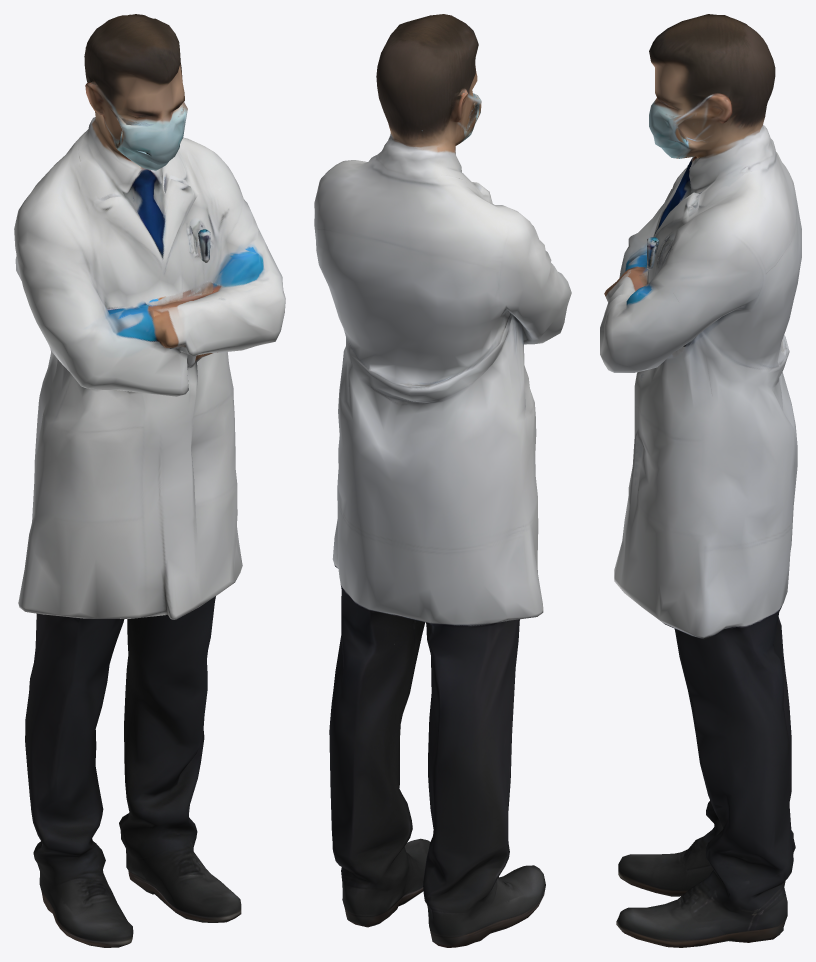
File: Meshy_AI_Doctor_in_a_Lab_Coat_0210210403_texture.fbx
3 renders of one model, left to right at view 1: azimuth 30°, elevation 25°; view 2: azimuth 150°, elevation 25°; view 3: azimuth 270°, elevation 25°, orthographic.
Visible parts, largest first — view 1: Mesh_0; view 2: Mesh_0; view 3: Mesh_0.
Boxes of the visible parts, x1,y1,x2,y2 form: Mesh_0: (14, 14, 285, 947); Mesh_0: (314, 14, 571, 947); Mesh_0: (600, 14, 801, 947).
Bounding box in the file's own units: 50.1 × 191 × 38.75.
1 material, 1 textured.
